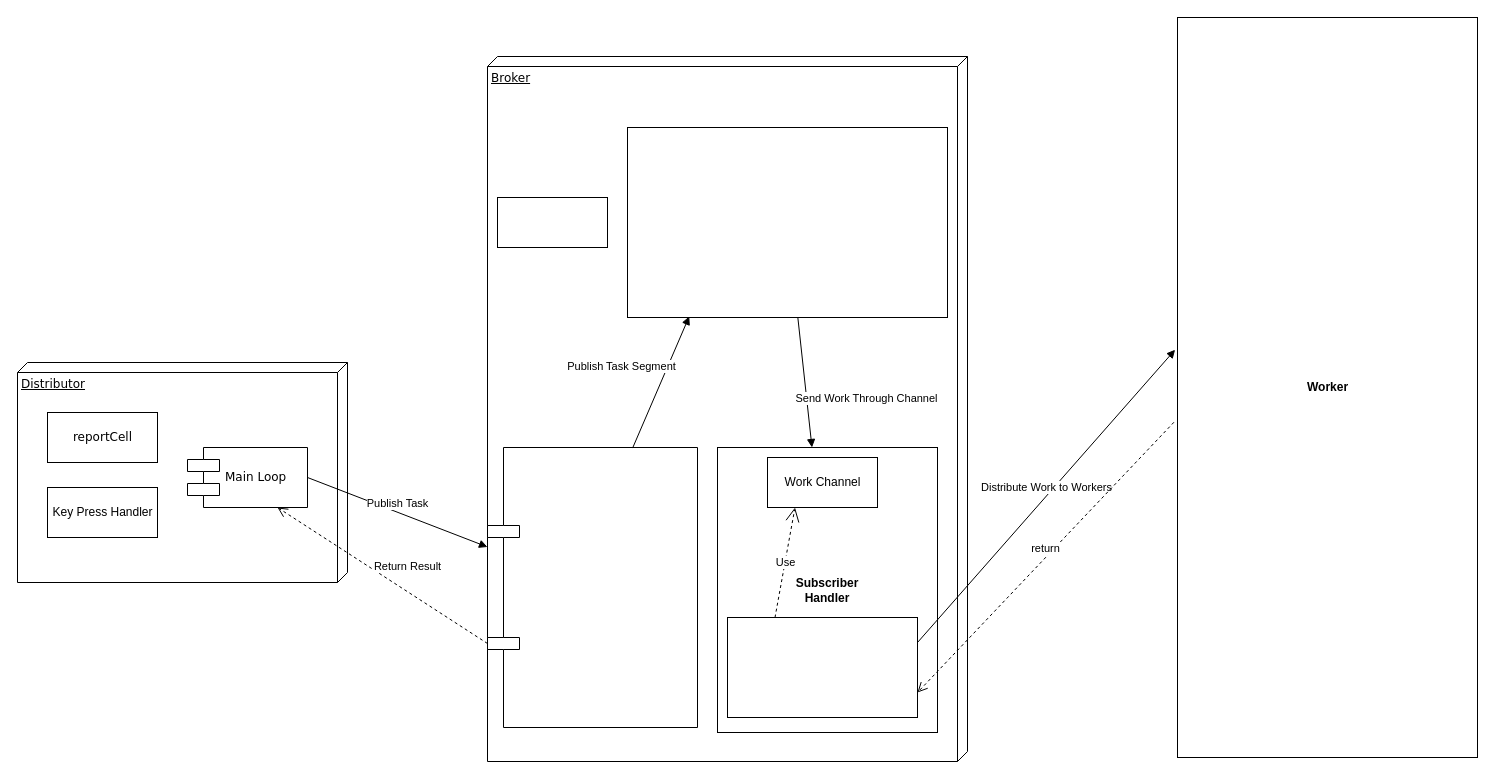
The diagram is 1495 pixels wide and 779 high, and some of its shapes have lost their labels. Each missing label, with the centre of its shape:
EventHandler: pixel 552 222
Handlers: pixel 592 587
Subscriber Loops: pixel 822 667
Task Sender: pixel 787 222
